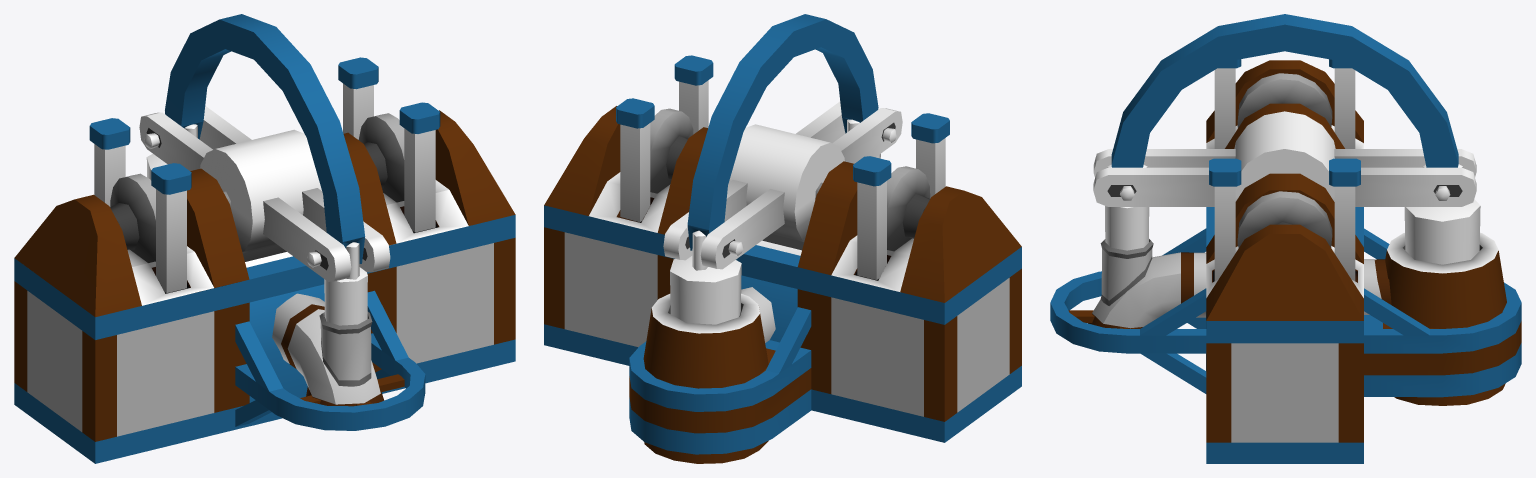
Rendered from DeepMechanicalWaterPump.IronTeeth.fbx.
The picture shows the model from 3 angles, left to right: view 1: azimuth 30°, elevation 25°; view 2: azimuth 150°, elevation 25°; view 3: azimuth 270°, elevation 25°; orthographic projection. The views are drawn at different scales.
Visible parts, largest first — view 1: DeepMechanicalWaterPump_IronTeeth, _VerticalPumpMechanismAnimated_001, _PistonAnimated1_001, _PistonAnimated2_001; view 2: DeepMechanicalWaterPump_IronTeeth, _VerticalPumpMechanismAnimated_001, _PistonAnimated2_001, _PistonAnimated1_001; view 3: DeepMechanicalWaterPump_IronTeeth, _VerticalPumpMechanismAnimated_001, _PistonAnimated2_001, _PistonAnimated1_001.
Part boxes in pixels (x1,y1,x2,y2): DeepMechanicalWaterPump_IronTeeth: (14,110,515,463); _VerticalPumpMechanismAnimated_001: (110,14,404,281); _PistonAnimated1_001: (151,102,440,325); _PistonAnimated2_001: (89,57,378,206); DeepMechanicalWaterPump_IronTeeth: (544,106,1021,463); _VerticalPumpMechanismAnimated_001: (650,14,930,269); _PistonAnimated2_001: (616,98,891,324); _PistonAnimated1_001: (674,55,949,198); DeepMechanicalWaterPump_IronTeeth: (1050,60,1521,463); _VerticalPumpMechanismAnimated_001: (1093,14,1476,247); _PistonAnimated2_001: (1329,59,1480,280); _PistonAnimated1_001: (1105,59,1241,280).
Bounding box in the file's own units: 300 × 254 × 299.
